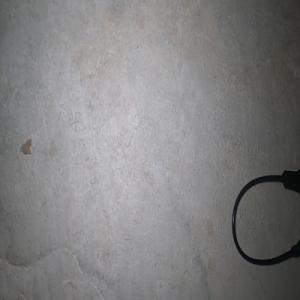Wire: (231, 168, 300, 266)
